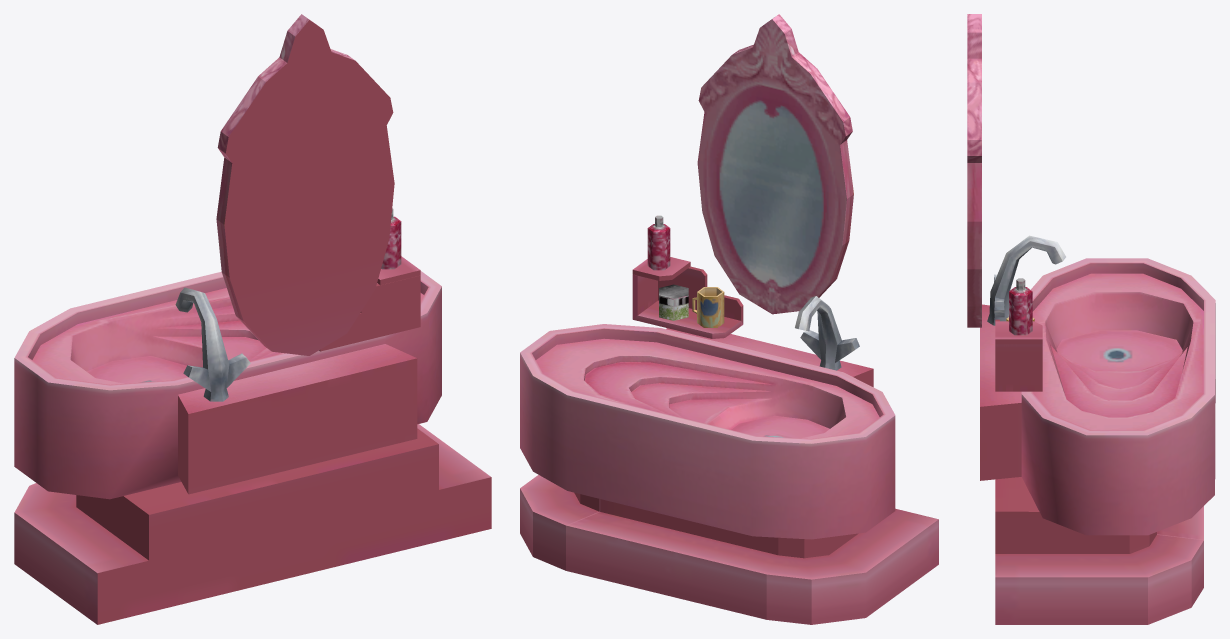
File: furni_0200028_03.FBX
3 views of the same model, side by side, from view 1: azimuth 30°, elevation 25°; view 2: azimuth 150°, elevation 25°; view 3: azimuth 270°, elevation 25° (orthographic). The views are drawn at different scales.
Visible parts, largest first — view 1: furni_0200028; view 2: furni_0200028; view 3: furni_0200028.
Boxes of the visible parts, left/top/right/bottom form: furni_0200028: left=14, top=14, right=491, bottom=624; furni_0200028: left=520, top=14, right=938, bottom=624; furni_0200028: left=967, top=14, right=1215, bottom=624.
Size of the model in its own units: 146 by 201 by 86.47.
